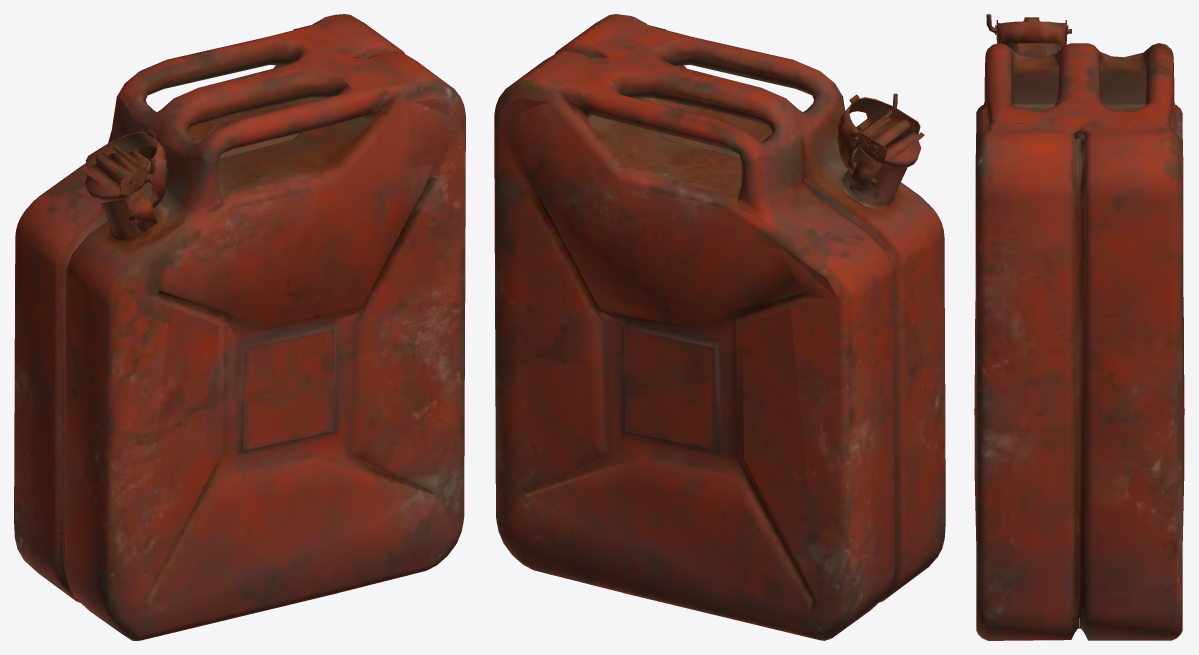
Rendered from metal_jerrycan.glb.
3 views of the same model, side by side, from view 1: azimuth 30°, elevation 25°; view 2: azimuth 150°, elevation 25°; view 3: azimuth 270°, elevation 25° (orthographic). The views are drawn at different scales.
Visible parts, largest first — view 1: metal_jerrycan; view 2: metal_jerrycan; view 3: metal_jerrycan.
Boxes of the visible parts, x1,y1,x2,y2 form: metal_jerrycan: (14,14,465,640); metal_jerrycan: (494,14,945,640); metal_jerrycan: (974,14,1184,640).
Size of the model in its own units: 0.35 by 0.455 by 0.1723.
1 material, 1 textured.
